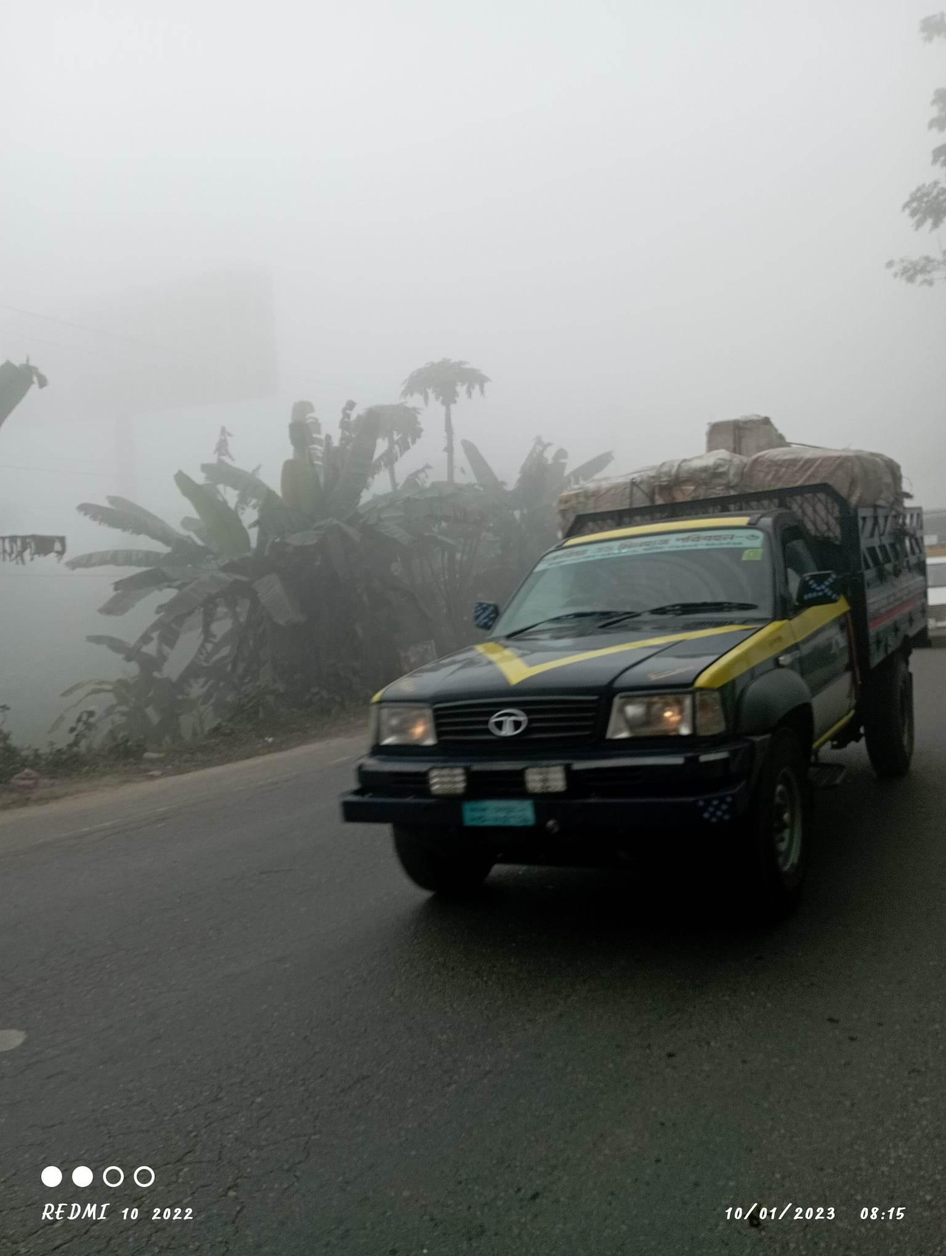Truck: (273, 421, 914, 874)
